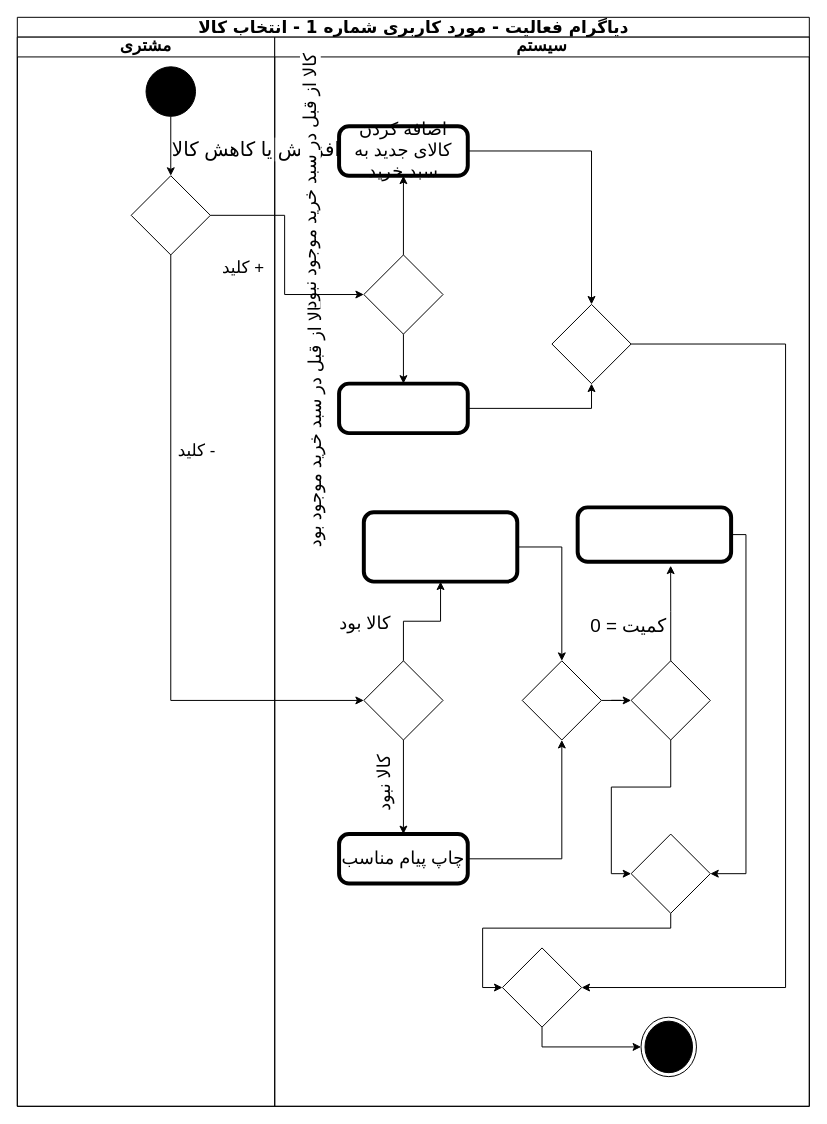
This 827x1124 diagram has some shape labels left out. The centre of each missing label's shape, as x and y in pixels:
"افزایش کمیت کالا در سبد حرید" goes at [403,408].
"حذف کامل کالا از سبد خرید" goes at [654,534].
"کاهش یک واحدی کمیت کالا در سبد خرید" goes at [440,546].
